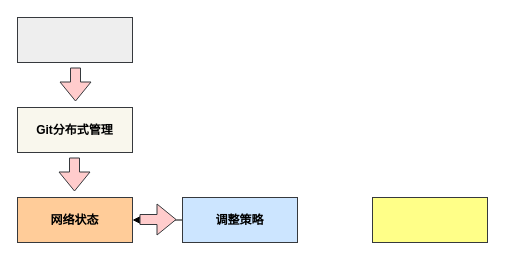
Some shapes in this 505 by 260 pixel diagram are drawn without their labels. The shapes that lost their labels are listed below. From the top down, each one's centre as x and y in pixels, then its label:
At point (74, 39): "多分支管理模型".
At point (430, 219): "规划引擎".
